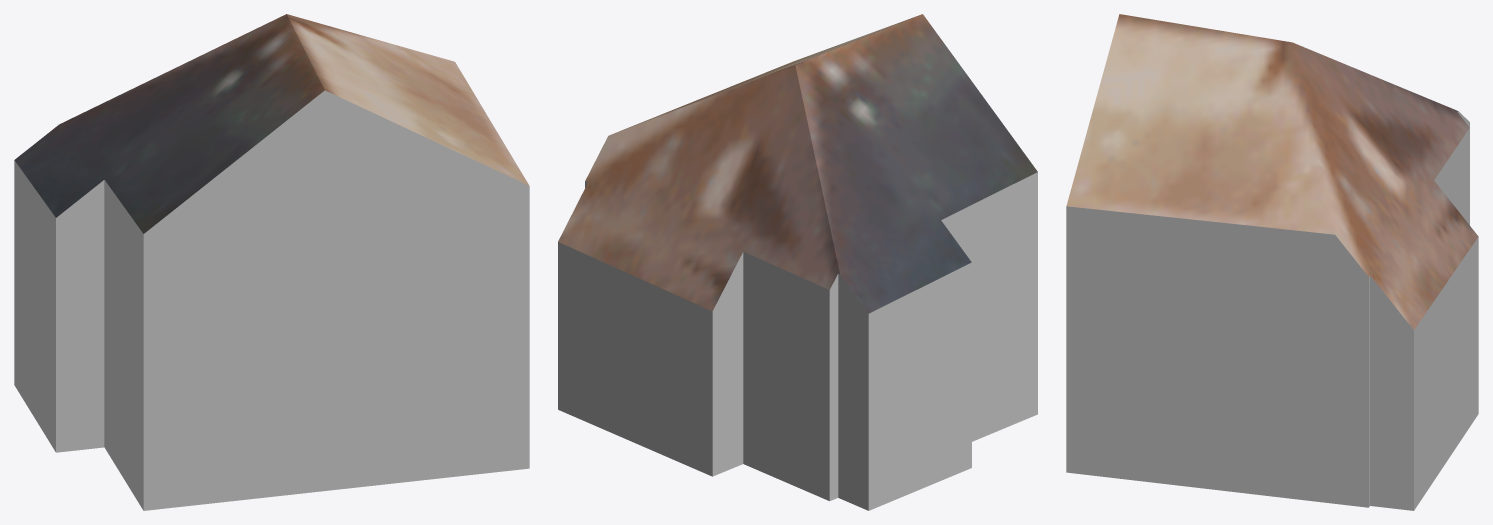
The model's file is DEBW_0010007Txj1.gltf.
The picture shows the model from 3 angles, left to right: view 1: azimuth 30°, elevation 25°; view 2: azimuth 150°, elevation 25°; view 3: azimuth 270°, elevation 25°; orthographic projection. The views are drawn at different scales.
Parts seen in each view (by area): view 1: Z_UP; view 2: Z_UP; view 3: Z_UP.
Part boxes in pixels (x1=…): Z_UP: x1=14, y1=14, x2=529, y2=510; Z_UP: x1=558, y1=14, x2=1037, y2=510; Z_UP: x1=1066, y1=14, x2=1478, y2=510.
Bounding box in the file's own units: 14.66 × 13.29 × 13.15.
2 materials, 1 textured.
